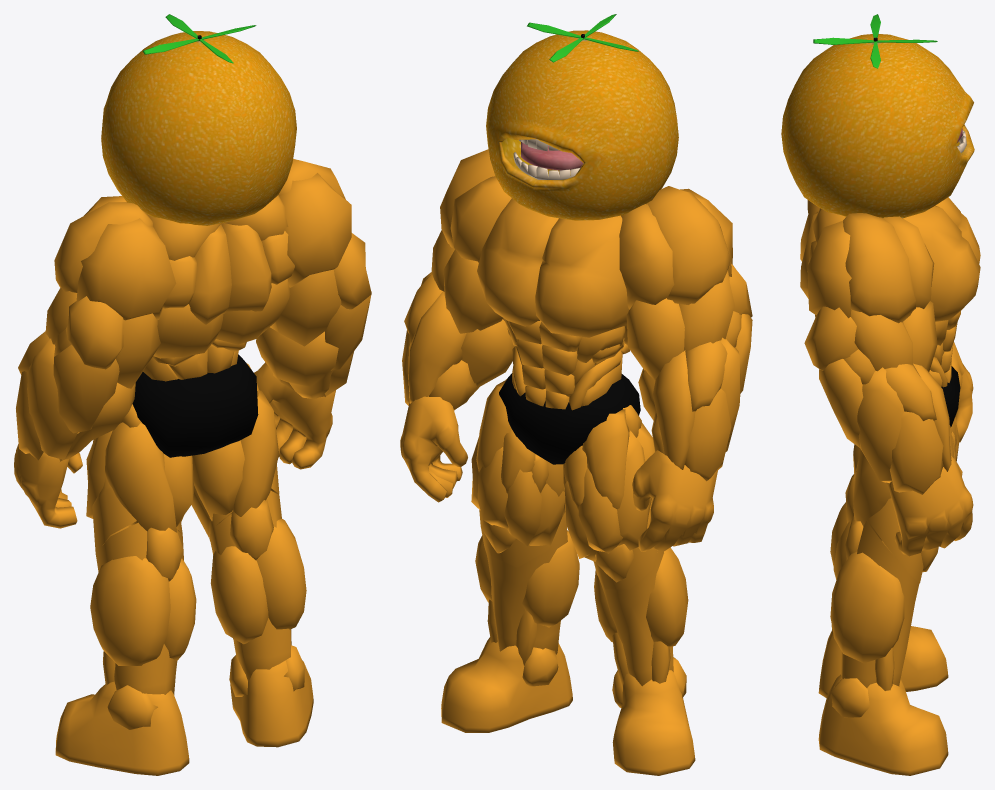
The model's file is NowDoTheHarlemShake.obj.
3 views of the same model, side by side, from view 1: azimuth 30°, elevation 25°; view 2: azimuth 150°, elevation 25°; view 3: azimuth 270°, elevation 25° (orthographic). The views are drawn at different scales.
Visible parts, largest first — view 1: Handle1, Player3, Player13, Player9, Player5, Player12, Player10, Player8, Player1, Player6, Player4, Player15 (+4 smaller); view 2: Handle1, Player3, Player13, Player8, Player10, Player4, Player15, Player14, Player5, Player12, Player9, Player1 (+4 smaller); view 3: Handle1, Player12, Player14, Player5, Player15, Player3, Player7, Player4, Player1, Player9, Player11, Handle2 (+2 smaller).
Boxes of the visible parts, bbox=[...] form: Handle1: bbox=[101, 31, 296, 225]; Player3: bbox=[143, 195, 294, 381]; Player13: bbox=[45, 196, 176, 388]; Player9: bbox=[90, 522, 196, 694]; Player5: bbox=[210, 490, 306, 681]; Player12: bbox=[270, 159, 371, 346]; Player10: bbox=[16, 331, 135, 461]; Player8: bbox=[86, 404, 194, 554]; Player1: bbox=[55, 681, 189, 775]; Player6: bbox=[132, 354, 258, 457]; Player4: bbox=[191, 363, 279, 540]; Player15: bbox=[229, 645, 313, 747]; Handle1: bbox=[486, 30, 678, 220]; Player3: bbox=[477, 198, 629, 410]; Player13: bbox=[619, 186, 752, 380]; Player8: bbox=[563, 405, 657, 589]; Player10: bbox=[638, 314, 752, 481]; Player4: bbox=[471, 379, 565, 567]; Player15: bbox=[441, 637, 572, 732]; Player14: bbox=[402, 272, 514, 410]; Player5: bbox=[475, 519, 579, 665]; Player12: bbox=[431, 149, 511, 333]; Player9: bbox=[594, 547, 688, 687]; Player1: bbox=[612, 657, 695, 775]; Handle1: bbox=[781, 34, 974, 218]; Player12: bbox=[804, 213, 937, 371]; Player14: bbox=[819, 349, 951, 494]; Player5: bbox=[830, 516, 919, 690]; Player15: bbox=[818, 674, 948, 775]; Player3: bbox=[800, 197, 980, 387]; Player7: bbox=[888, 456, 973, 556]; Player4: bbox=[853, 425, 956, 583]; Player1: bbox=[818, 625, 948, 697]; Player9: bbox=[830, 474, 855, 579]; Player11: bbox=[951, 341, 973, 442]; Handle2: bbox=[813, 14, 937, 68].
Size of what is drawn, in the model's own units: 3.59 by 7.37 by 1.96.
